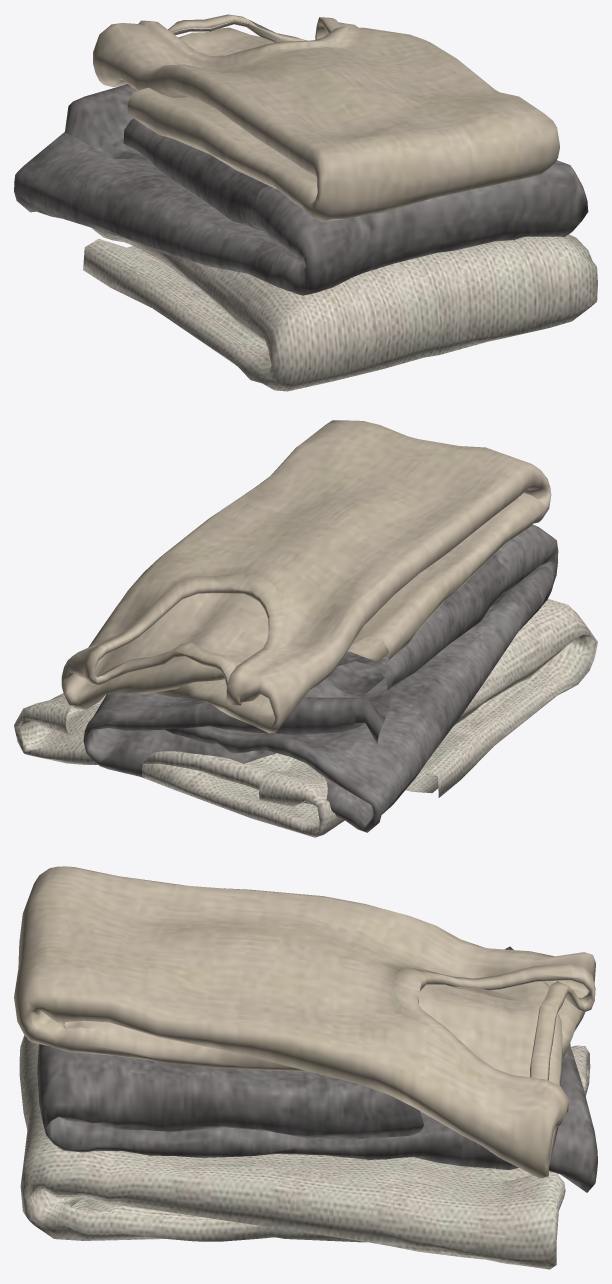
The model's file is Clothes_27.glb.
The picture shows the model from 3 angles, top to bottom: view 1: azimuth 30°, elevation 25°; view 2: azimuth 150°, elevation 25°; view 3: azimuth 270°, elevation 25°; orthographic projection. The views are drawn at different scales.
Visible parts, largest first — view 1: BP_Clothes_27; view 2: BP_Clothes_27; view 3: BP_Clothes_27.
Boxes of the visible parts, x1,y1,x2,y2 form: BP_Clothes_27: [14, 14, 597, 391]; BP_Clothes_27: [14, 420, 597, 837]; BP_Clothes_27: [14, 866, 597, 1269].
Size of the model in its own units: 0.3375 by 0.1824 by 0.3974.
Materials: 3 (3 with a texture image).
